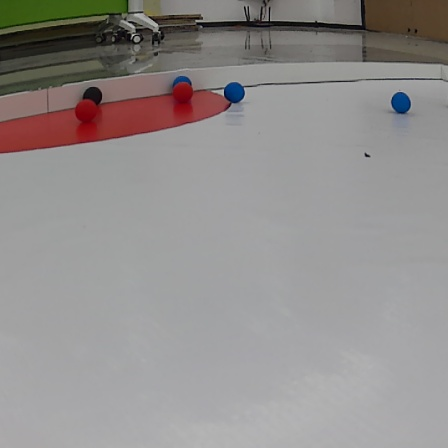black: (85, 82, 106, 104)
blue: (390, 92, 412, 115), (222, 83, 246, 101)
red: (71, 99, 101, 125), (174, 83, 196, 104)
red_base: (0, 86, 236, 156)
